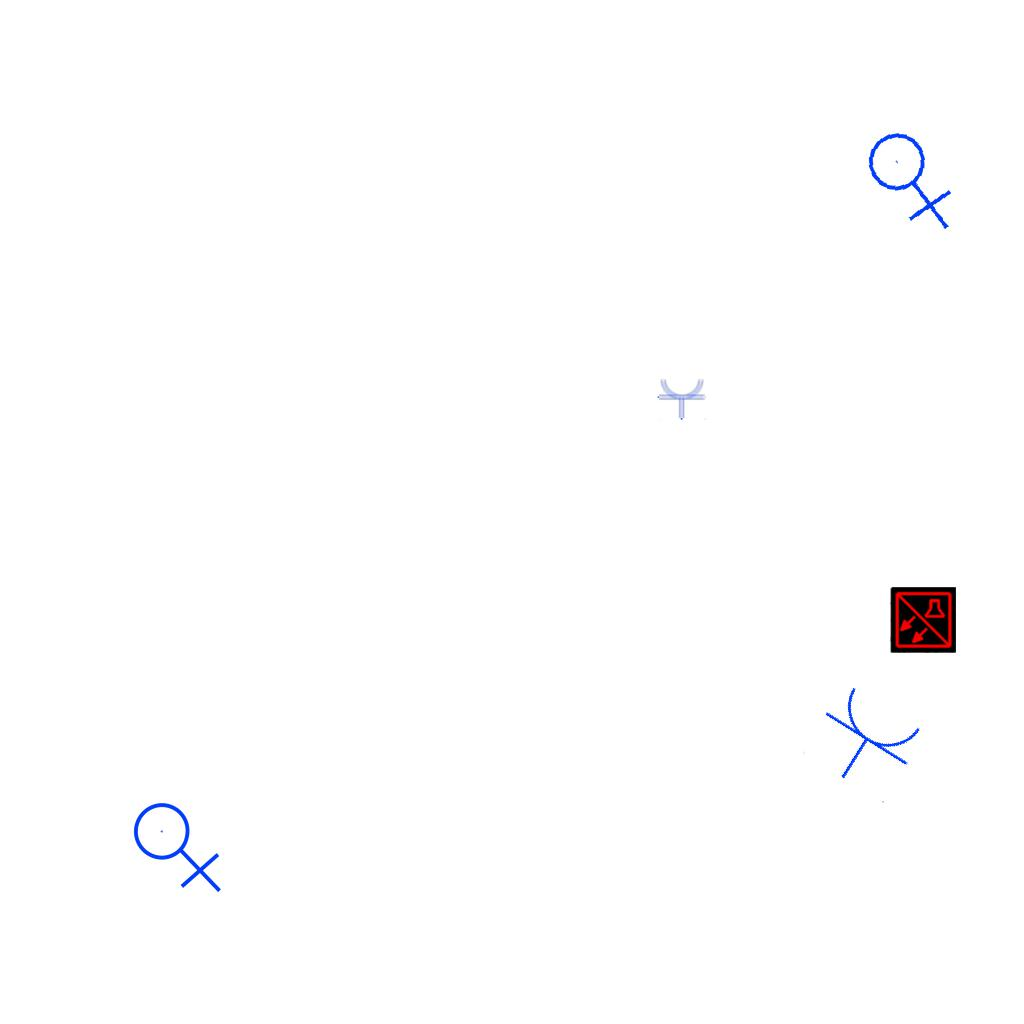Elektroanschluss_allgemein_230V_Geraeteanschlussdose_230V: (859, 121, 966, 231), (132, 794, 226, 893)
OKW_Multisensormelder_(Kombination_optischer_Rauch-Kahlenmonoxid_Waerme-Melder): (890, 587, 956, 653)
Schukosteckdose_einfach: (800, 678, 932, 805), (657, 377, 707, 420)
